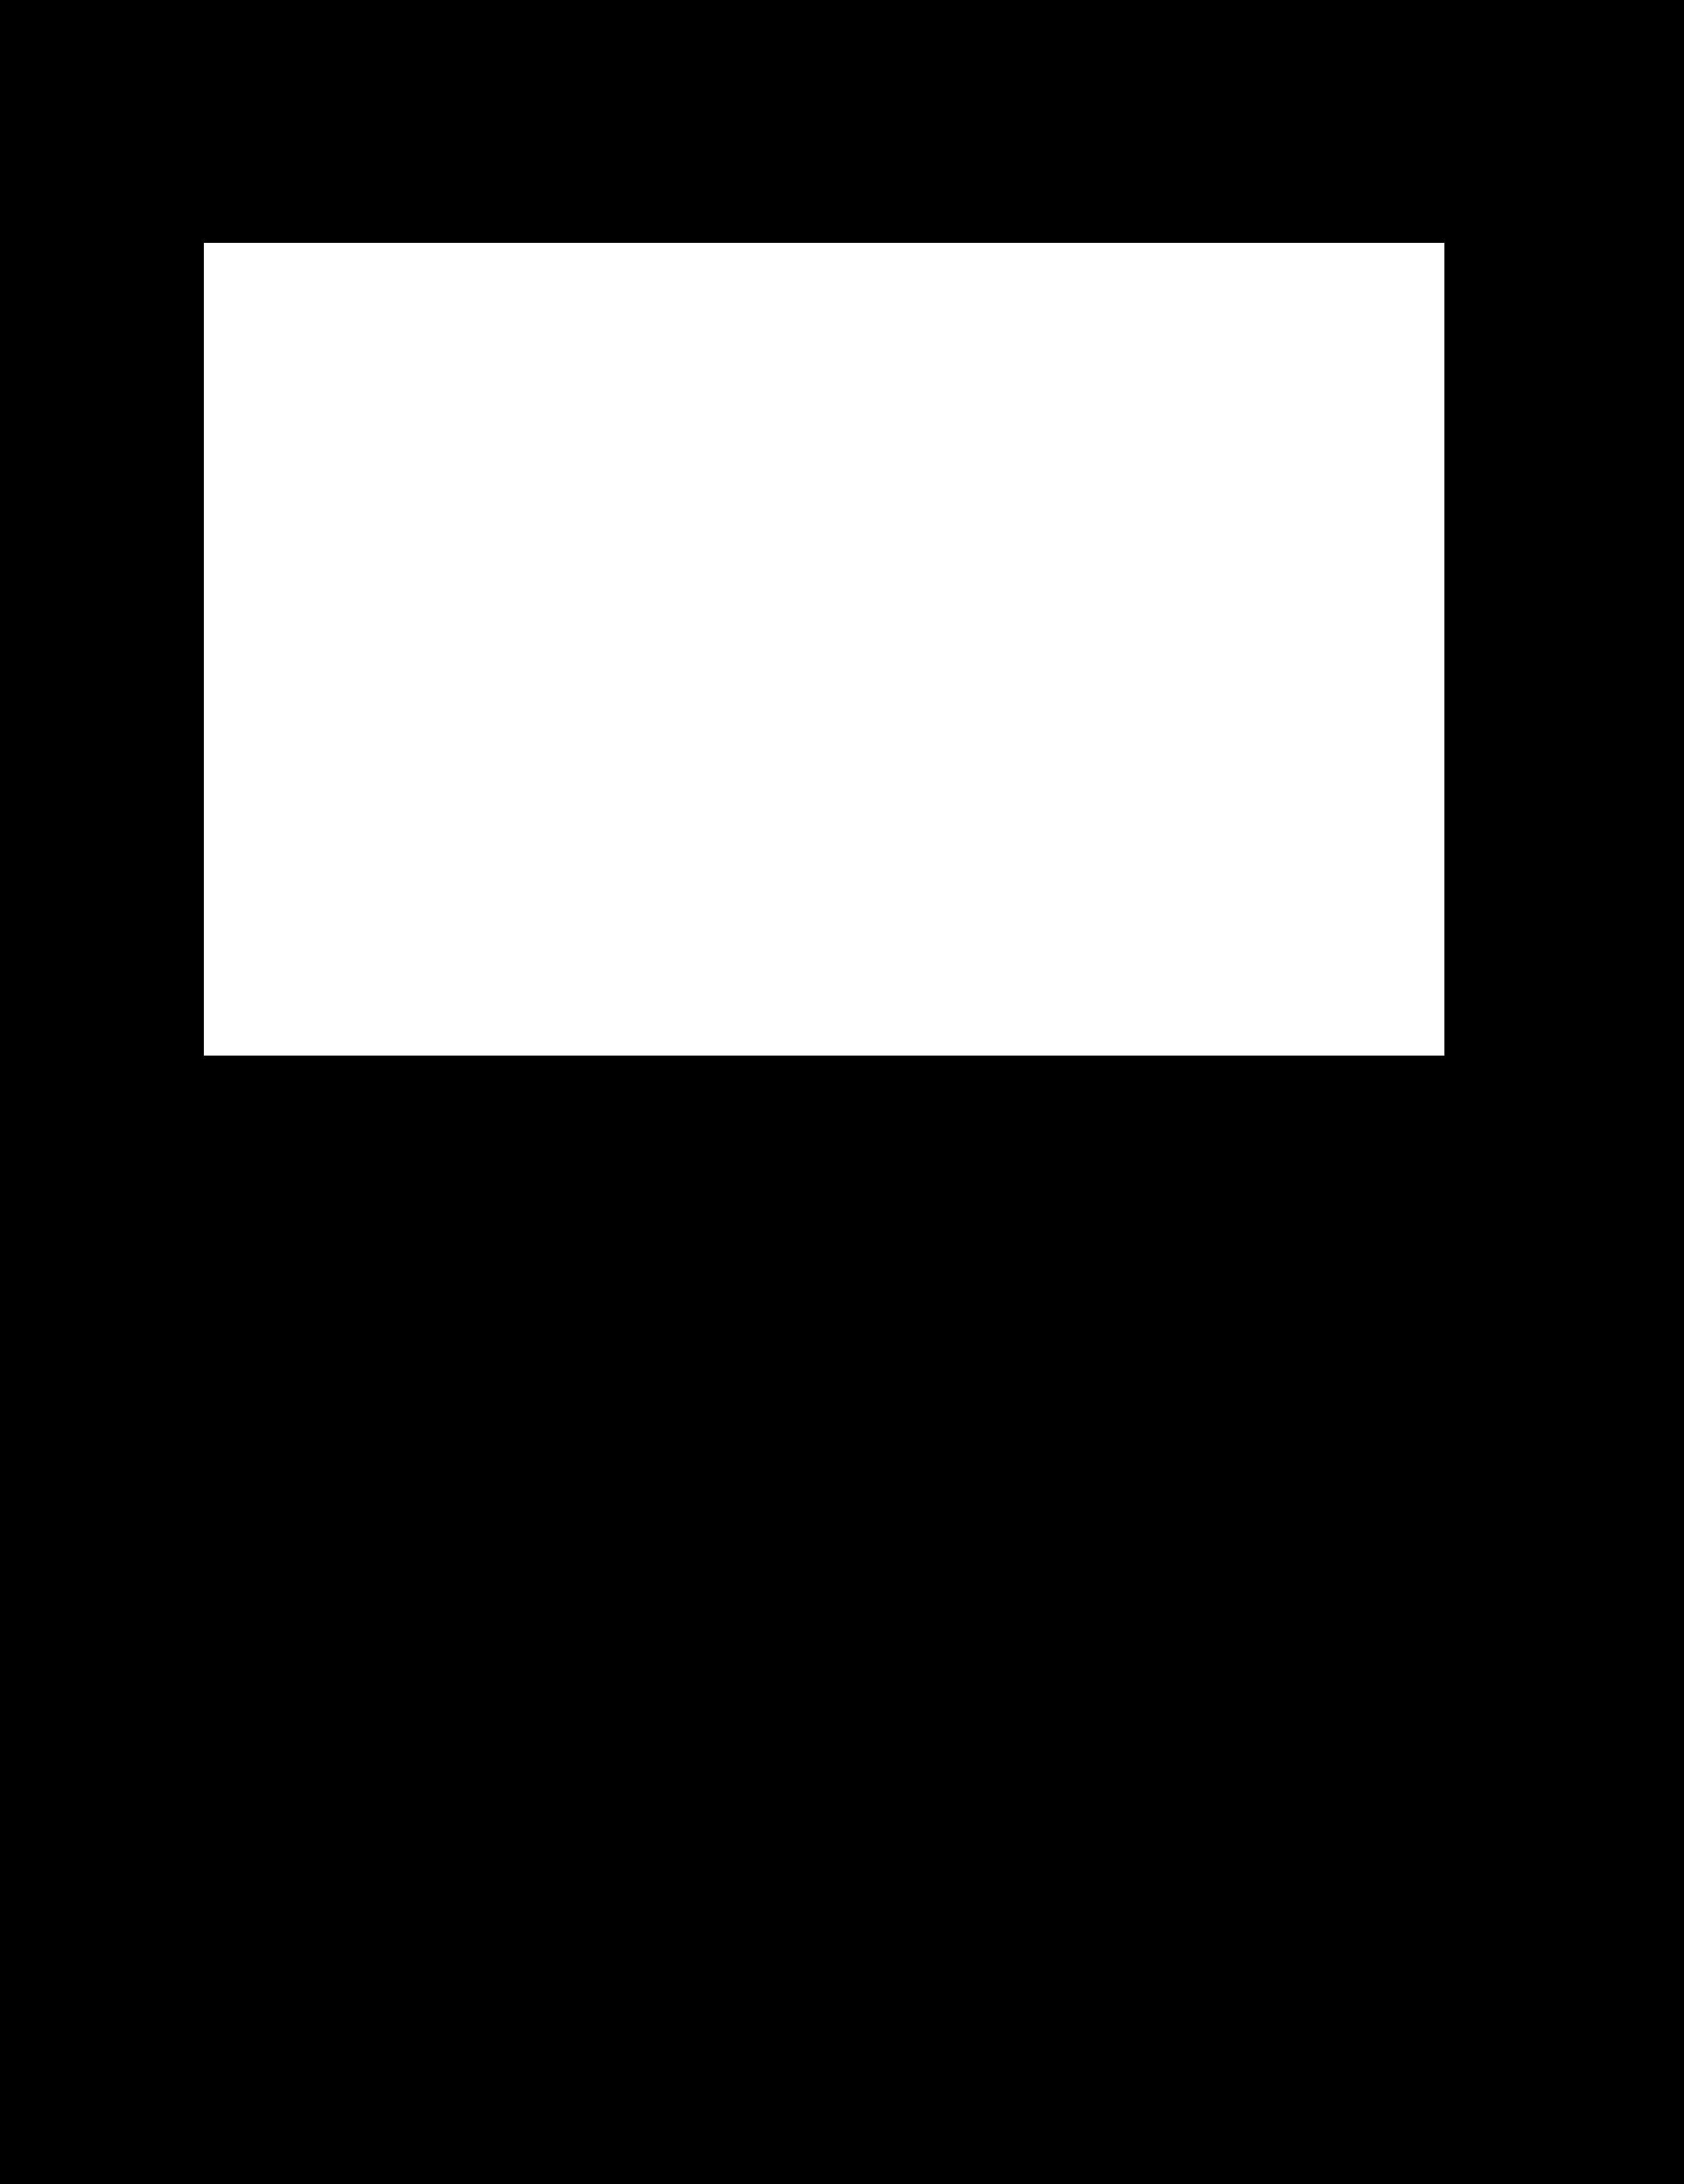table: (203, 242, 1443, 1056)
